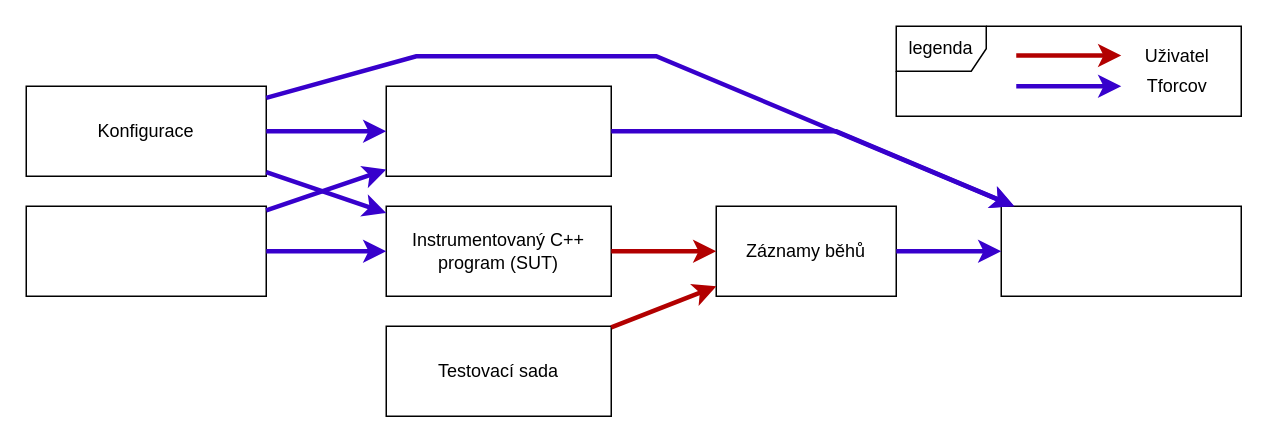
Some shapes in this 1268 by 443 pixel diagram are drawn without their labels. Each missing label, with the centre of its shape:
"C++ program (SUT)" belongs at point 145,250.
"Graf toku řízení (CFG)" belongs at point 498,130.
"Report pokrytí testy" belongs at point 1120,250.
